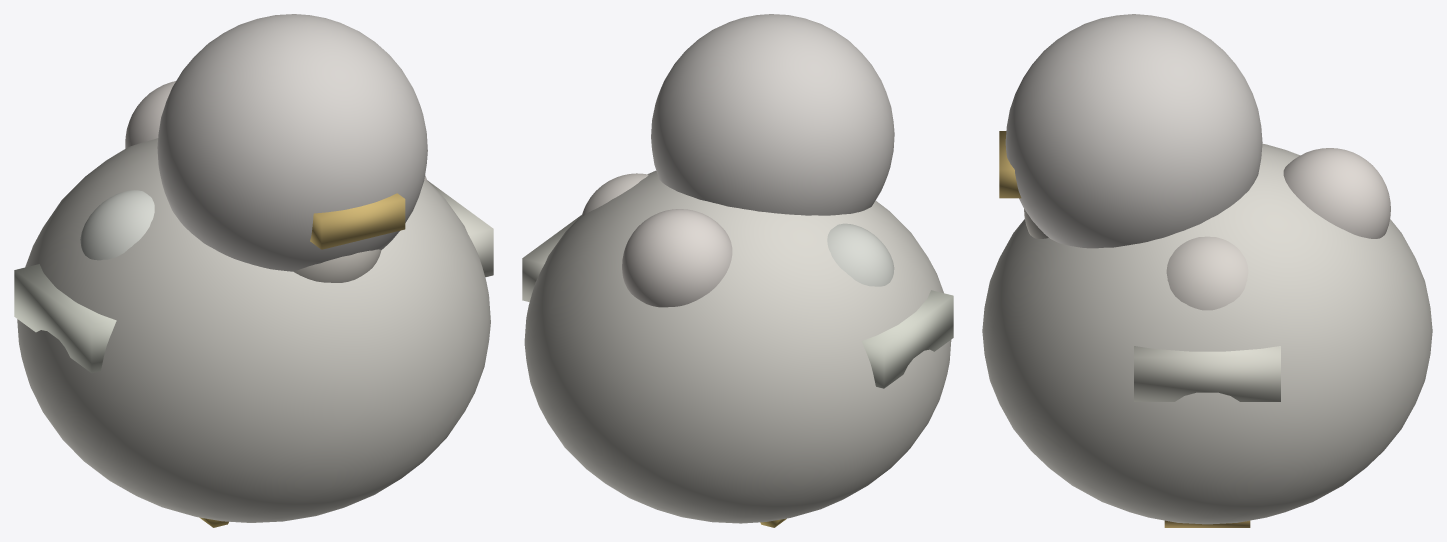
The model's file is lifecycle_goose_baby.glb.
The picture shows the model from 3 angles, left to right: view 1: azimuth 30°, elevation 25°; view 2: azimuth 150°, elevation 25°; view 3: azimuth 270°, elevation 25°; orthographic projection. The views are drawn at different scales.
Parts seen in each view (by area): view 1: body, head, wing-1, tuft2, beak, tuft1, tuft3, wing1; view 2: body, head, tuft3, wing-1, tuft2, wing1, tuft0; view 3: body, head, wing1, tuft3, tuft0, beak.
Boxes of the visible parts, x1,y1,x2,y2 form: body: [17, 138, 490, 522]; head: [157, 14, 427, 271]; wing-1: [14, 264, 116, 373]; tuft2: [80, 190, 154, 260]; beak: [310, 193, 405, 249]; tuft1: [293, 249, 381, 282]; tuft3: [125, 81, 175, 148]; wing1: [427, 180, 493, 277]; body: [524, 170, 951, 523]; head: [651, 14, 894, 215]; tuft3: [622, 209, 732, 307]; wing-1: [861, 290, 953, 388]; tuft2: [827, 223, 894, 286]; wing1: [522, 215, 581, 301]; tuft0: [581, 173, 648, 215]; body: [982, 143, 1432, 524]; head: [1005, 14, 1262, 248]; wing1: [1134, 346, 1280, 401]; tuft3: [1283, 148, 1390, 238]; tuft0: [1166, 236, 1248, 310]; beak: [999, 131, 1021, 198].
Bounding box in the file's own units: 0.368 × 0.427 × 0.368.
